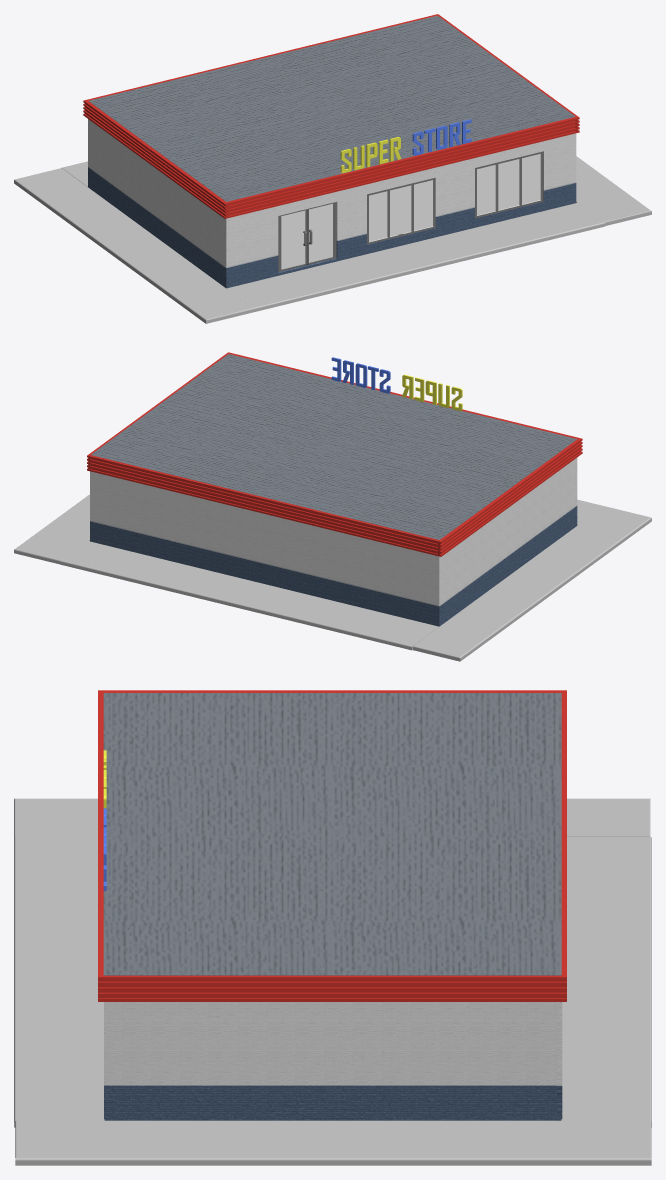
File: Super Market.fbx
3 views of the same model, one above another, from view 1: azimuth 30°, elevation 25°; view 2: azimuth 150°, elevation 25°; view 3: azimuth 270°, elevation 25° (orthographic). The views are drawn at different scales.
Parts seen in each view (by area): view 1: Cube.076, Cube.073, Cube.065, Cube.067, Cube.008, Cube.161, Cube.155, Text, Text.001; view 2: Cube.076, Cube.073, Cube.065, Cube.067, Text, Text.001; view 3: Cube.076, Cube.065, Cube.073, Cube.067.
Part boxes in pixels (left/top/right/bottom): Cube.076: left=88, top=15, right=575, bottom=201; Cube.073: left=88, top=119, right=576, bottom=288; Cube.065: left=14, top=156, right=651, bottom=323; Cube.067: left=83, top=14, right=579, bottom=218; Cube.008: left=367, top=151, right=543, bottom=244; Cube.161: left=307, top=202, right=336, bottom=264; Cube.155: left=278, top=209, right=306, bottom=271; Text: left=340, top=137, right=401, bottom=173; Text.001: left=412, top=119, right=471, bottom=155; Cube.076: left=91, top=354, right=577, bottom=539; Cube.073: left=90, top=458, right=577, bottom=626; Cube.065: left=14, top=494, right=651, bottom=661; Cube.067: left=87, top=352, right=582, bottom=556; Text: left=402, top=374, right=462, bottom=411; Text.001: left=331, top=357, right=390, bottom=393; Cube.076: left=103, top=693, right=561, bottom=975; Cube.065: left=14, top=798, right=651, bottom=1165; Cube.073: left=104, top=1002, right=562, bottom=1120; Cube.067: left=98, top=690, right=566, bottom=1001.
Bounding box in the file's own units: 4461 × 1078 × 3332.
